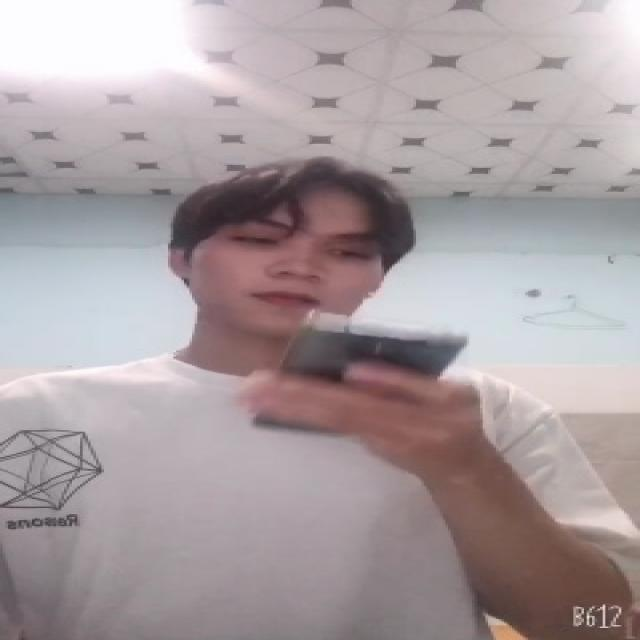Phone: (259, 321, 472, 385)
